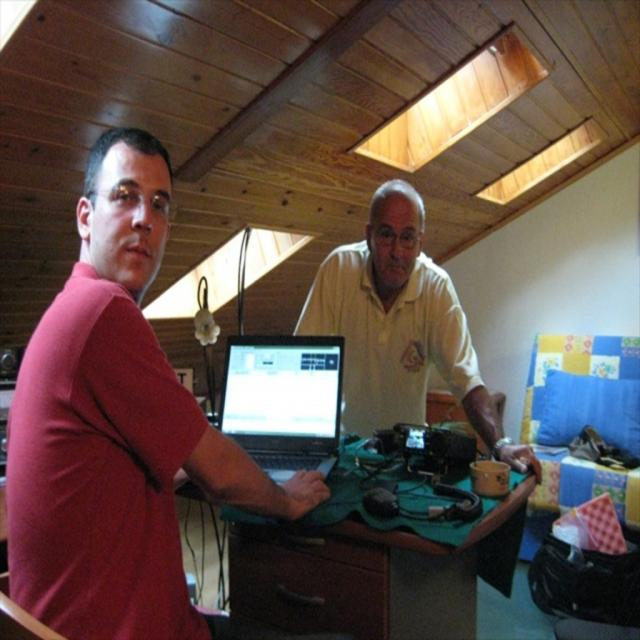desk: (195, 427, 553, 628)
laptop: (218, 334, 346, 486)
mouse: (361, 488, 398, 518)
person: (6, 125, 331, 634), (293, 178, 533, 472)
